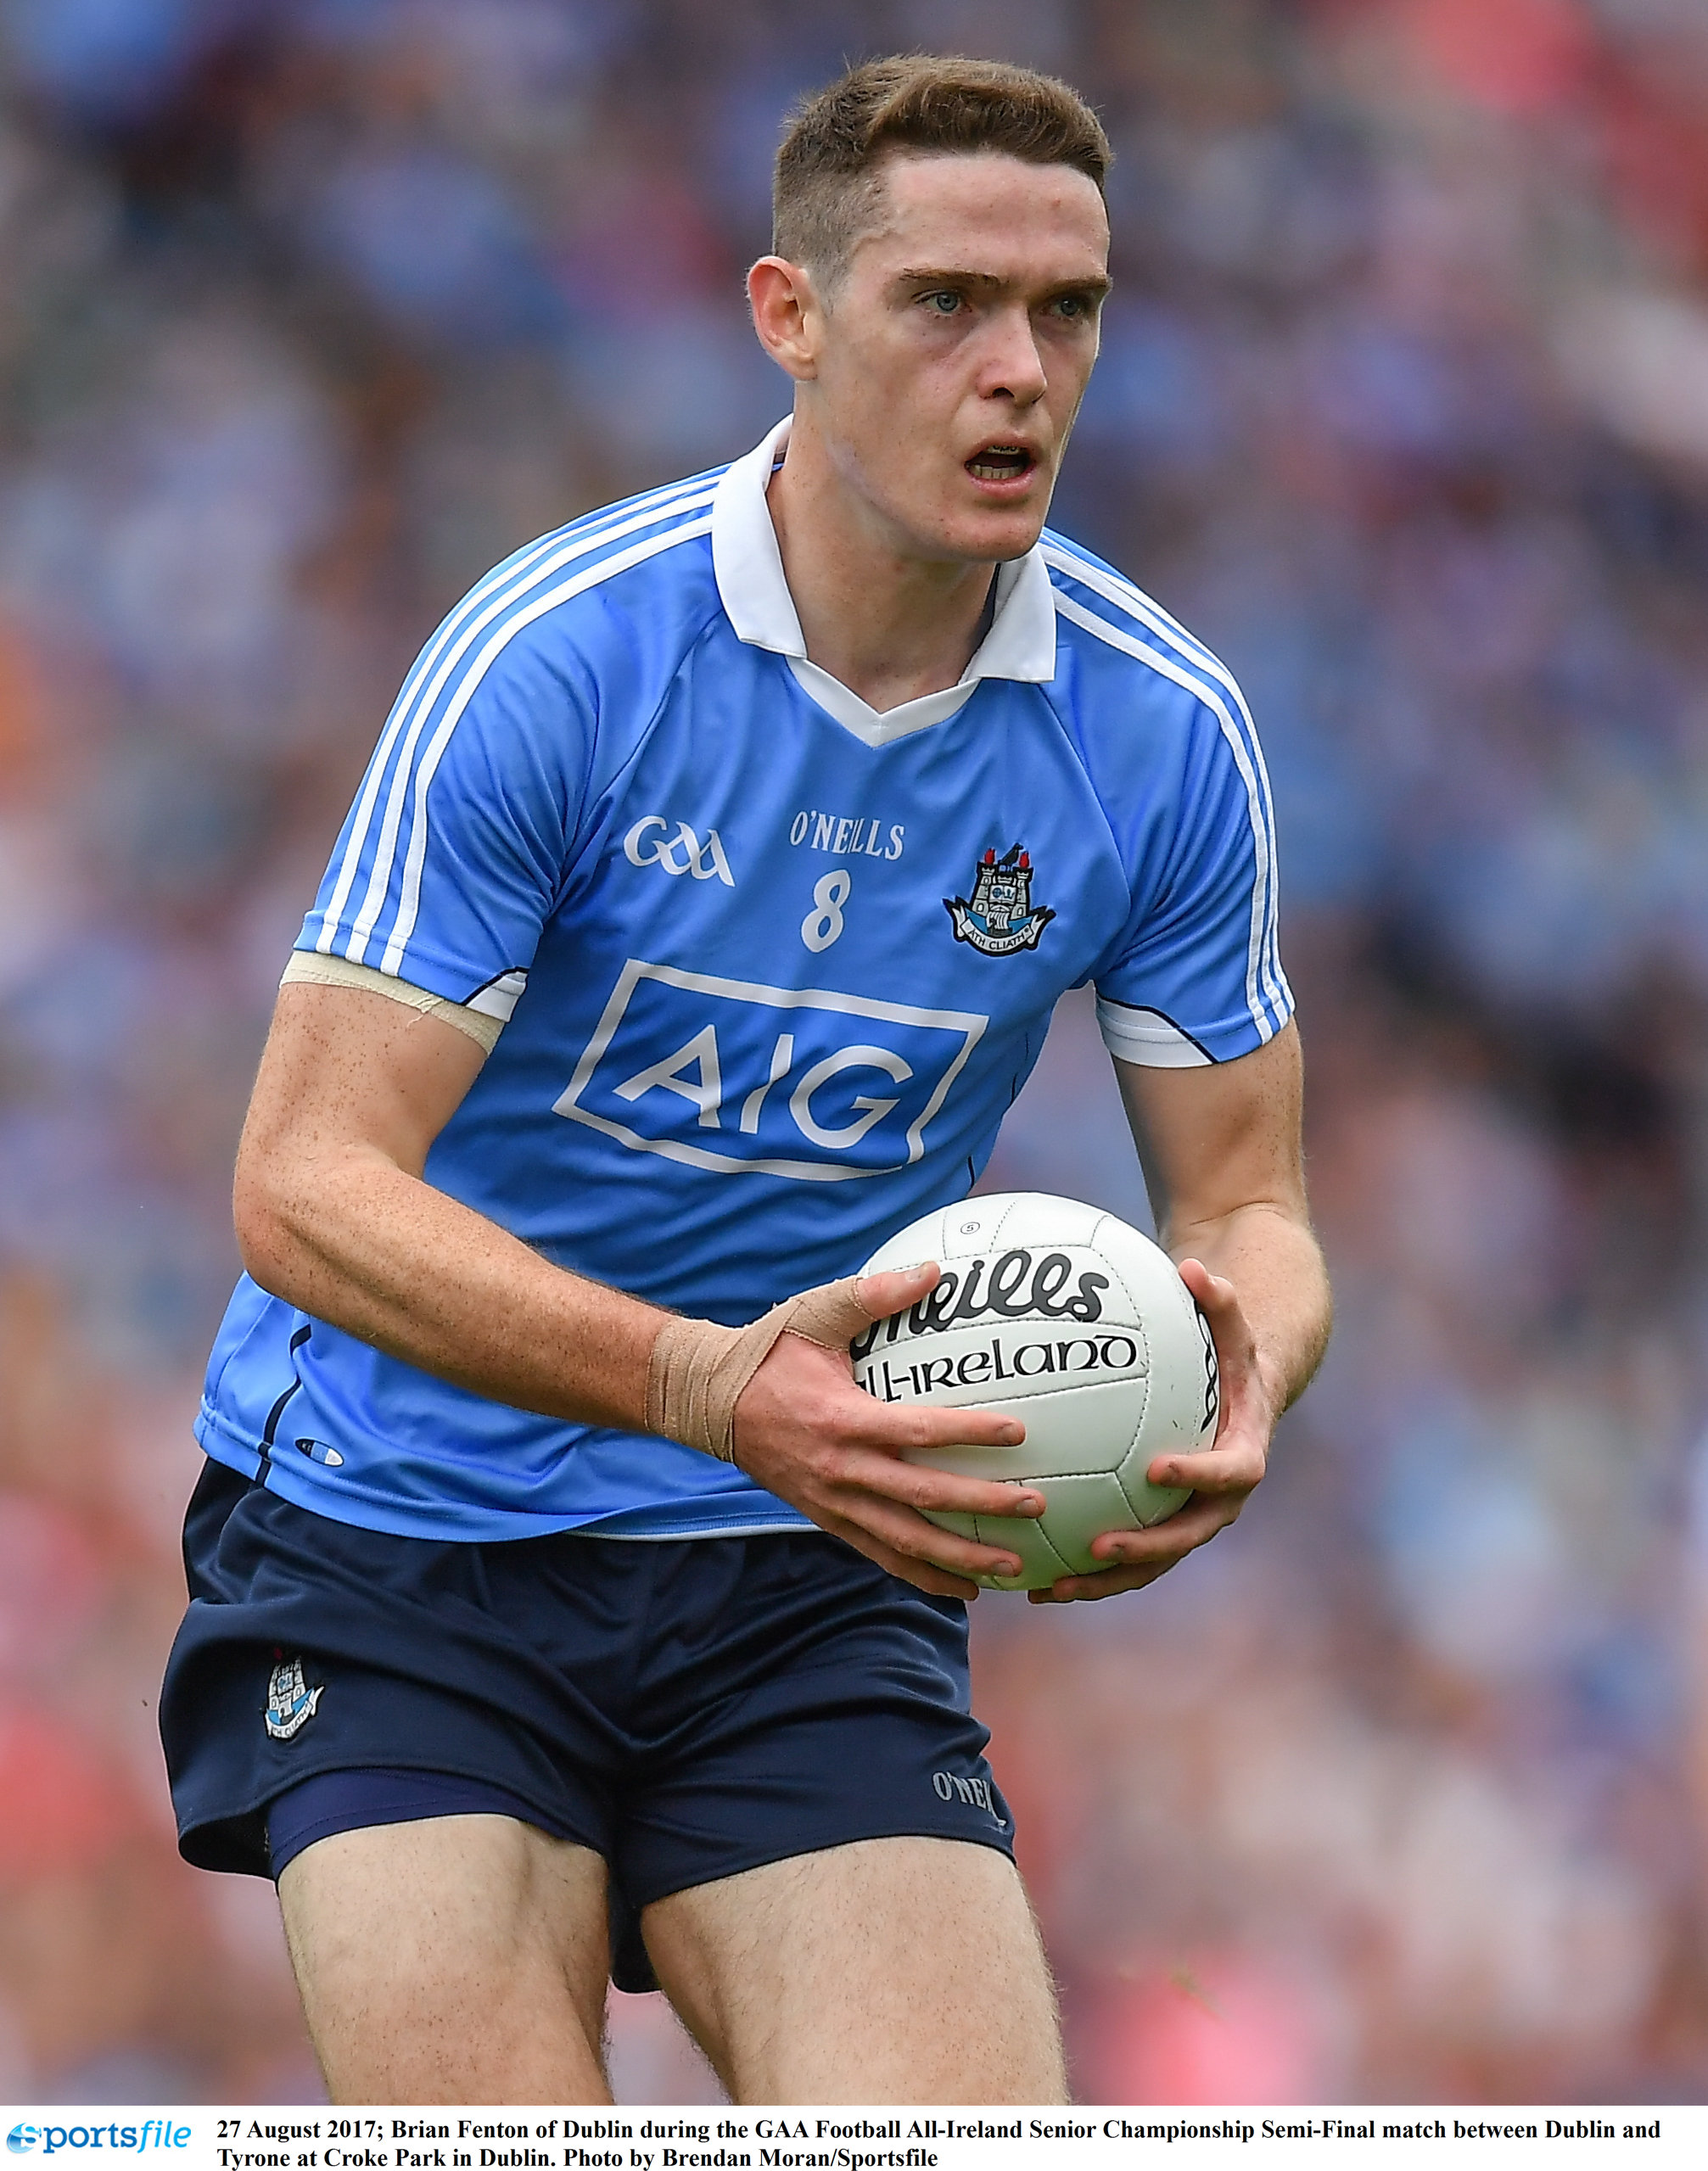ball: (848, 1209, 1215, 1615)
player: (277, 24, 1266, 2069)
